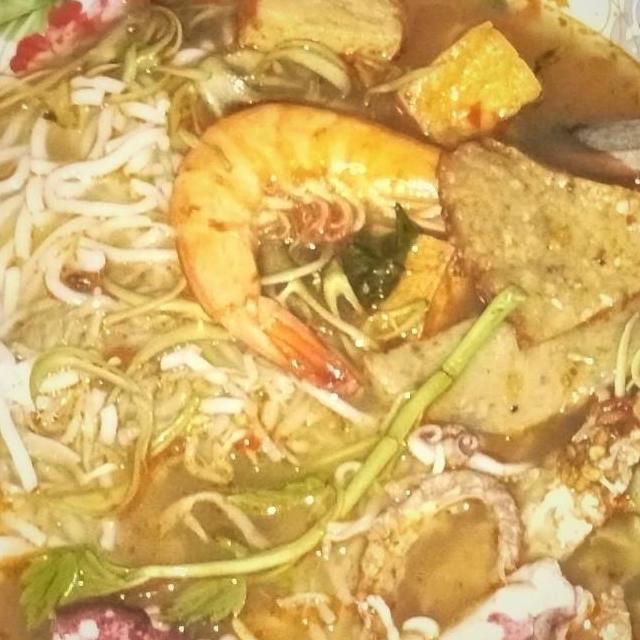bun: (27, 0, 640, 272)
dau hu: (497, 382, 640, 524), (279, 356, 421, 472), (574, 230, 640, 405)
muc: (0, 403, 72, 579), (0, 64, 29, 252)
tom: (225, 174, 564, 480)
